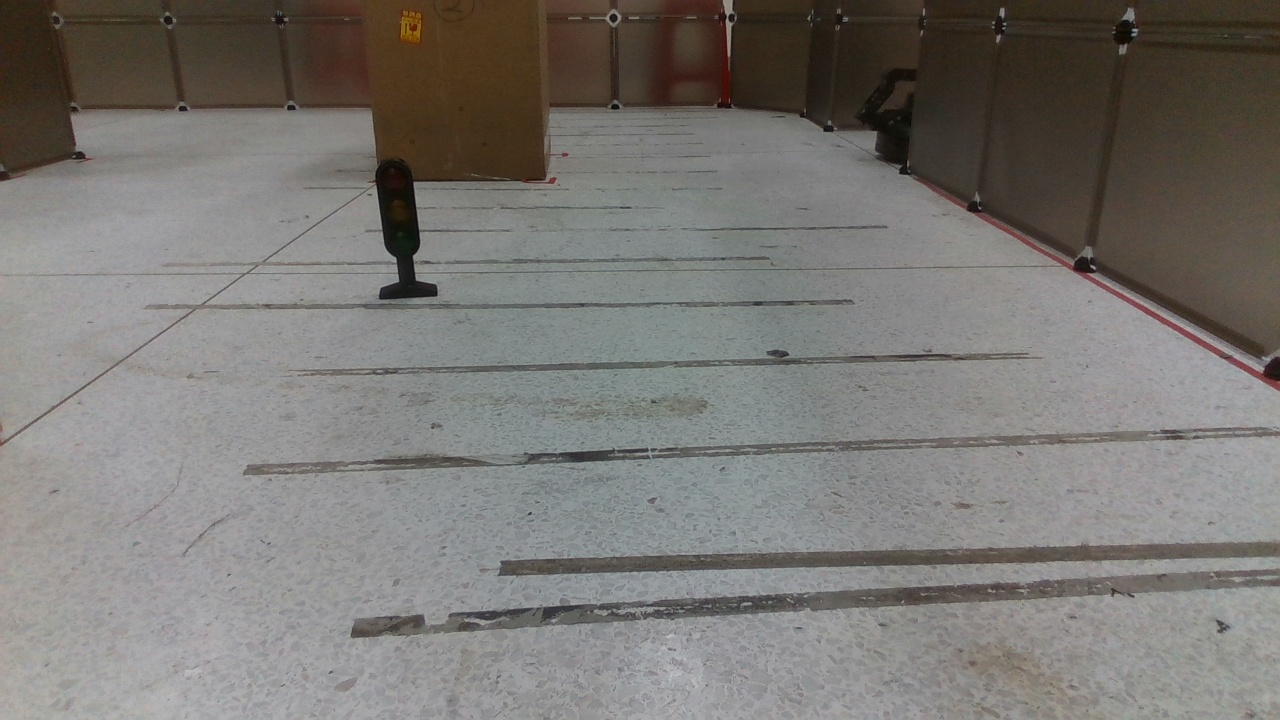Dim traffic light: (365, 157, 442, 300)
